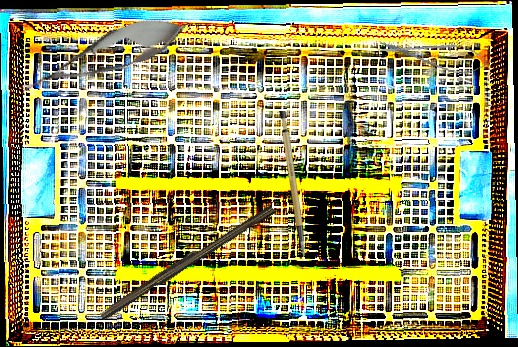Micro Scissor: (13, 3, 194, 110), (376, 32, 491, 78)
Scalpel Handle: (97, 199, 276, 324), (277, 111, 306, 257)
